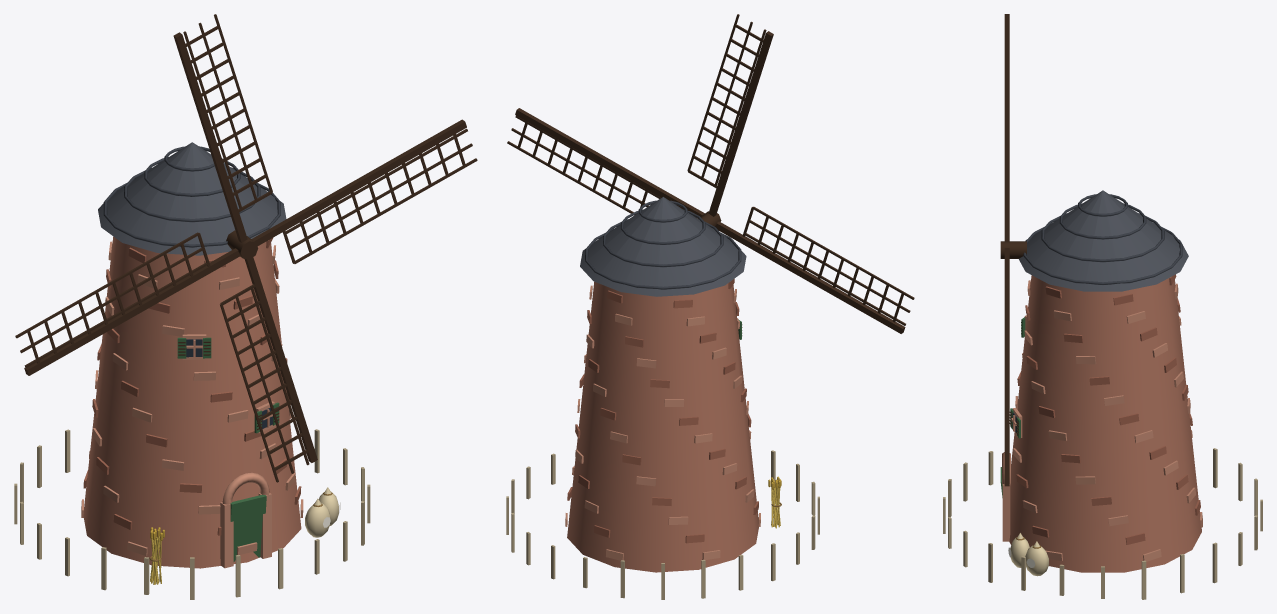
The model's file is muehle.glb.
3 views of the same model, side by side, from view 1: azimuth 30°, elevation 25°; view 2: azimuth 150°, elevation 25°; view 3: azimuth 270°, elevation 25° (orthographic). The views are drawn at different scales.
Bounding box in the file's own units: 6.66 × 7.76 × 4.45.
